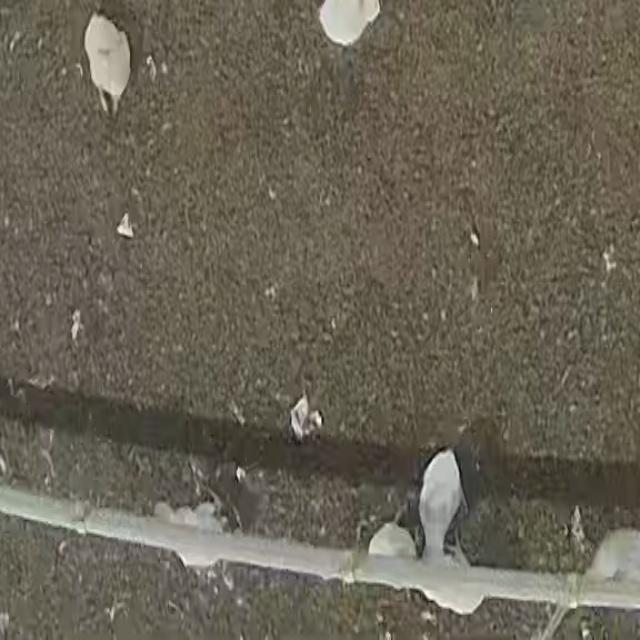chicken: (82, 8, 136, 121), (418, 445, 464, 560)
